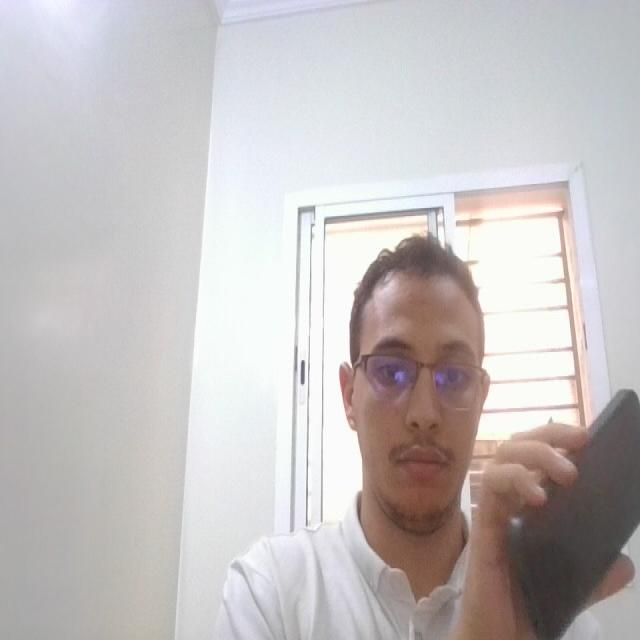phone: (501, 379, 640, 640)
